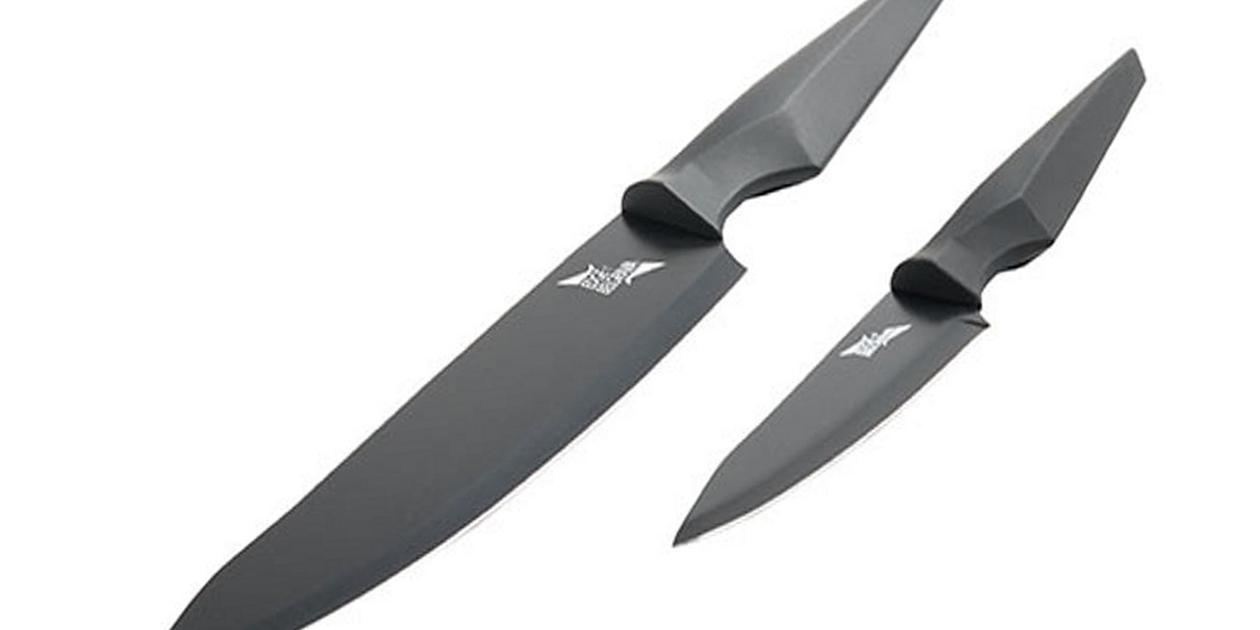knife: (676, 48, 1146, 545)
